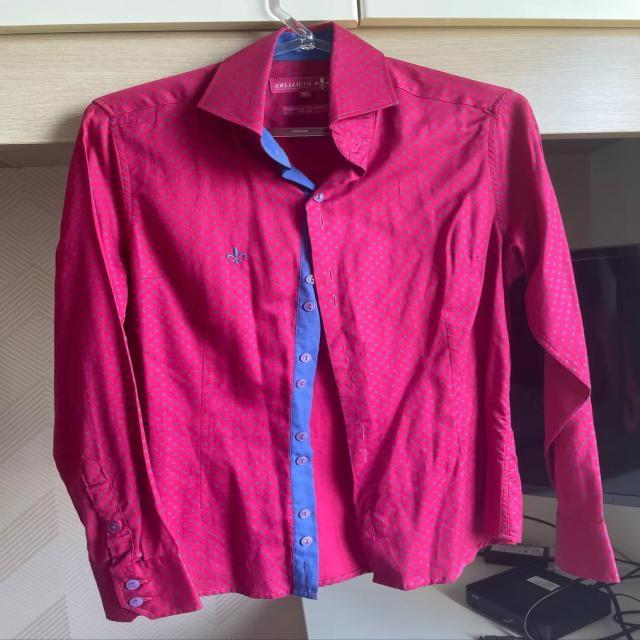long sleeve shirt: (48, 18, 624, 624)
